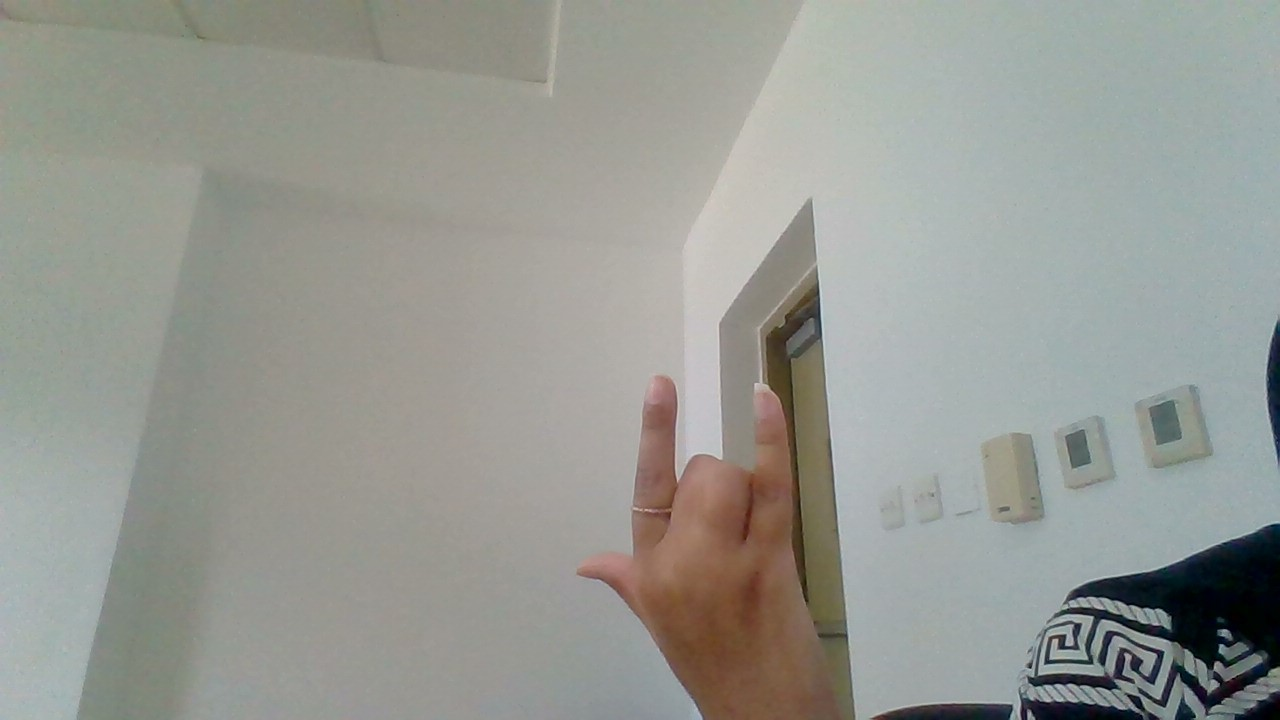love: (549, 354, 860, 720)
